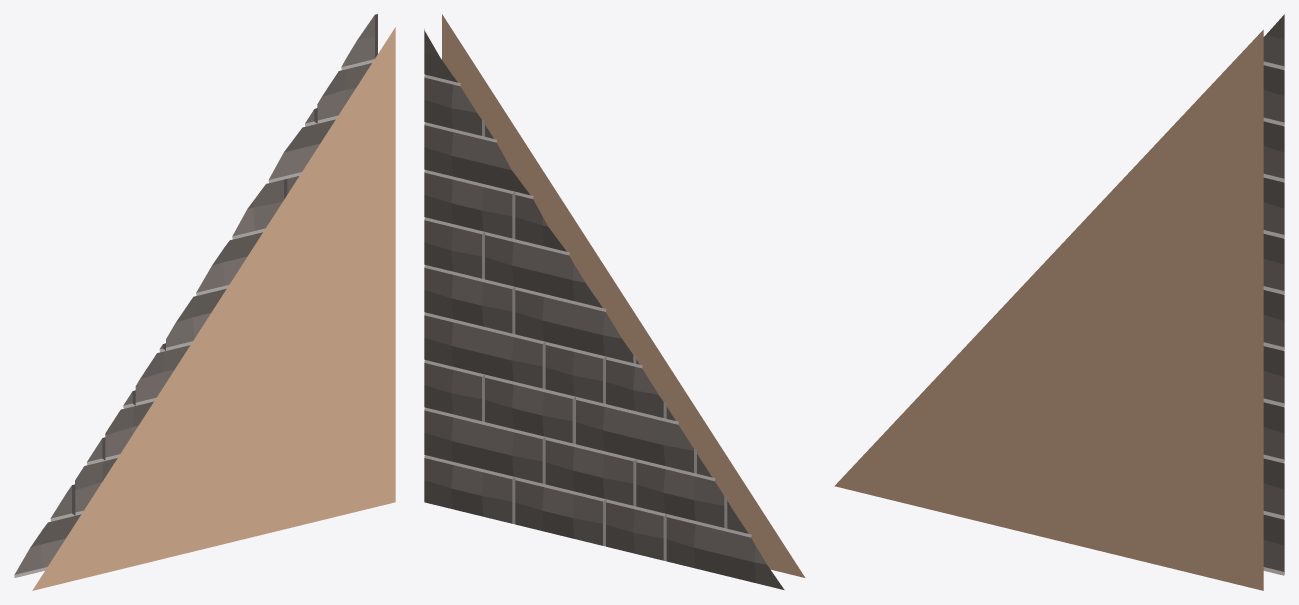
The model's file is WallAngle_Side_2.fbx.
The picture shows the model from 3 angles, left to right: view 1: azimuth 30°, elevation 25°; view 2: azimuth 150°, elevation 25°; view 3: azimuth 330°, elevation 25°; orthographic projection. The views are drawn at different scales.
Visible parts, largest first — view 1: WallAngle_Side_2; view 2: WallAngle_Side_2; view 3: WallAngle_Side_2.
Part boxes in pixels (x1=…): WallAngle_Side_2: x1=14, y1=14, x2=395, y2=590; WallAngle_Side_2: x1=424, y1=14, x2=804, y2=589; WallAngle_Side_2: x1=834, y1=14, x2=1284, y2=590.
Size of the model in its own units: 2.4 by 0.24 by 3.
